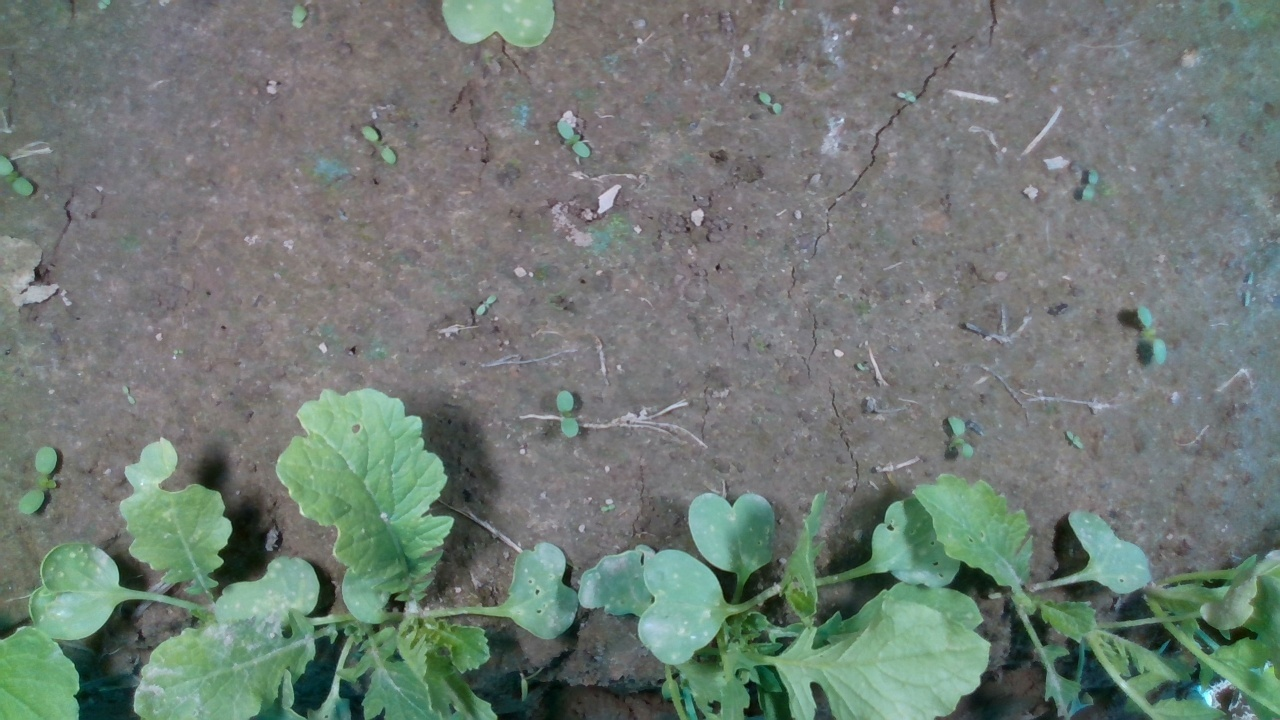weed: (16, 443, 59, 517), (1135, 303, 1167, 369), (358, 124, 399, 167), (554, 119, 592, 160), (944, 413, 975, 459), (553, 389, 580, 441), (757, 89, 783, 116), (1081, 167, 1099, 204), (475, 294, 498, 317), (1065, 430, 1085, 452), (894, 88, 918, 105), (120, 383, 136, 407)
